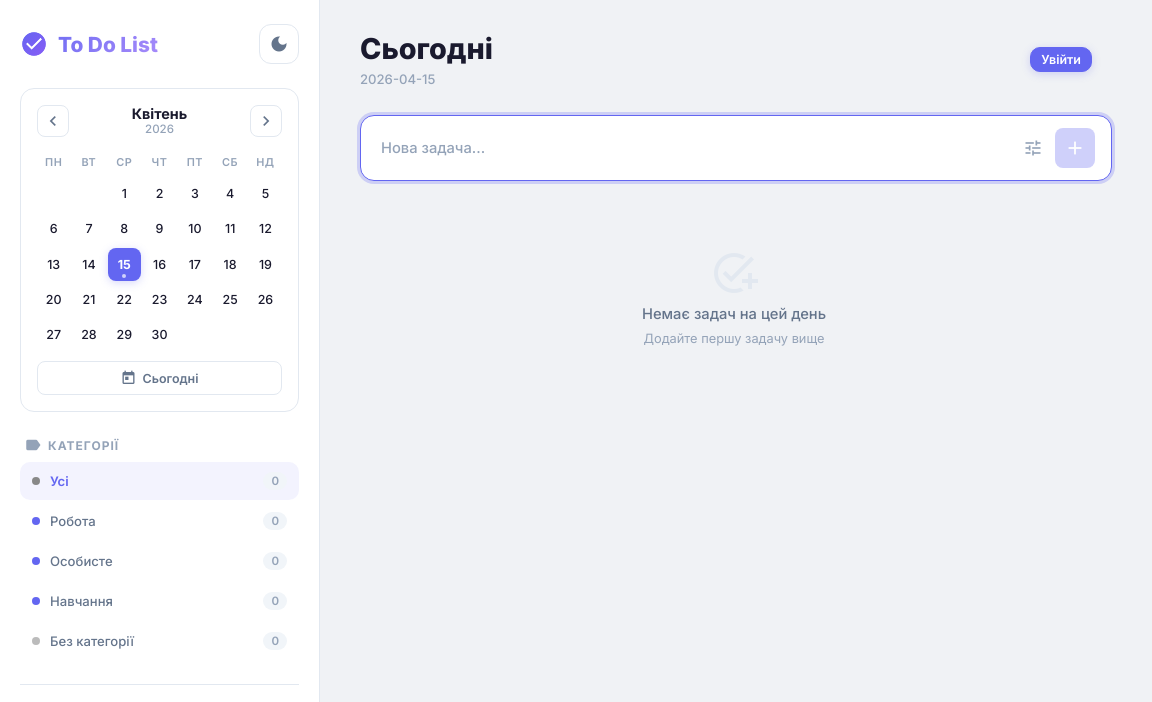
Test: Додавання задачі › повинно додати задачу у список після натискання кнопки
The width and height of the screenshot is (1152, 702).
Type "Купити молоко" into the field with placeholder "Нова задача..." at (694, 148), box [377,130,1011,164]
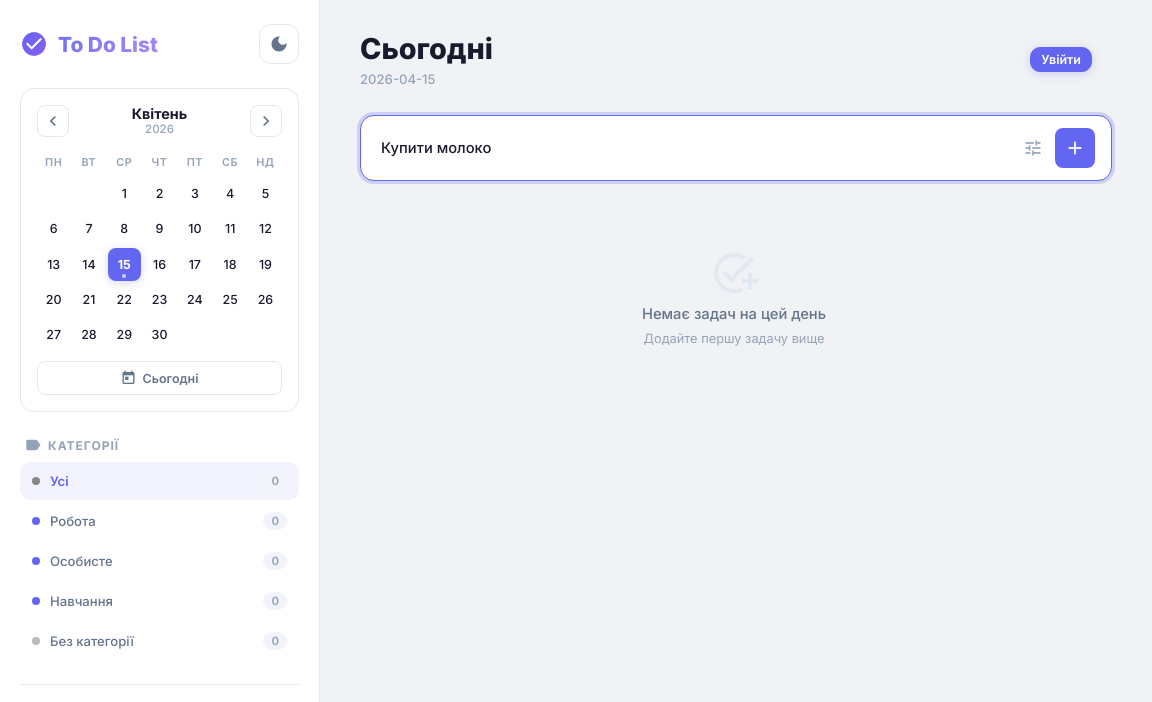
Click the 3rd button named "add" at (1075, 148), box [1055,128,1095,168]
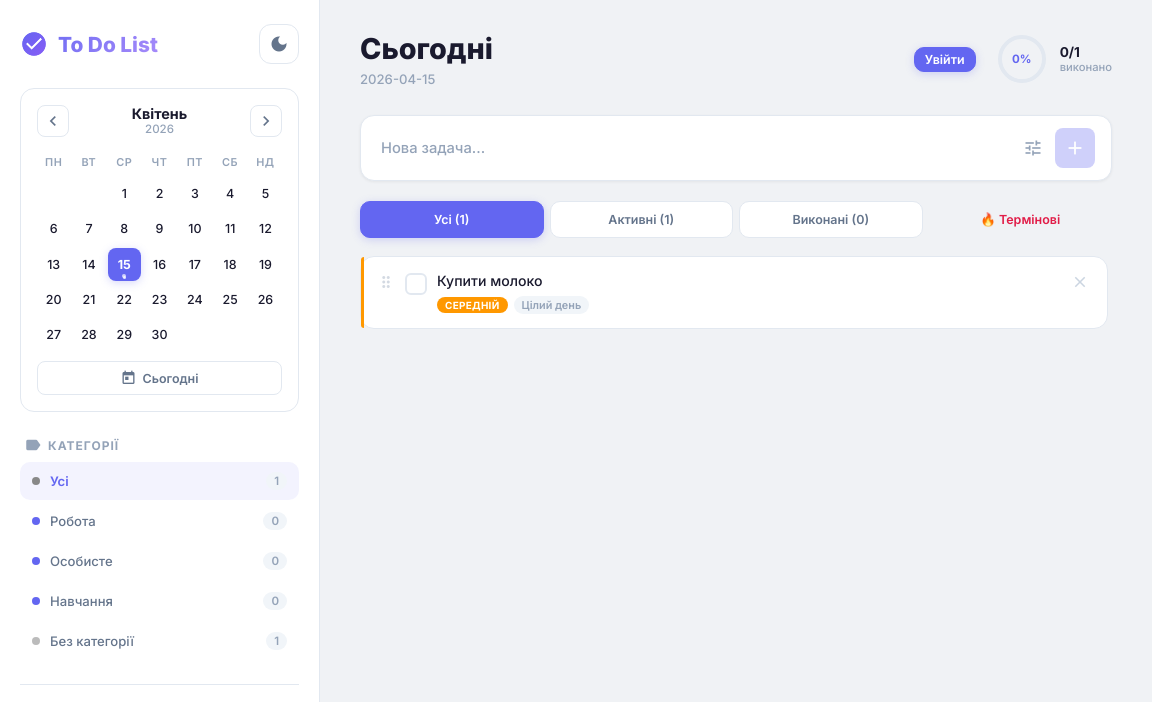
Result: the text "Купити молоко" is shown at [437,272,542,288]
Result: the field with placeholder "Нова задача..." is empty at [377,130,1011,164]
